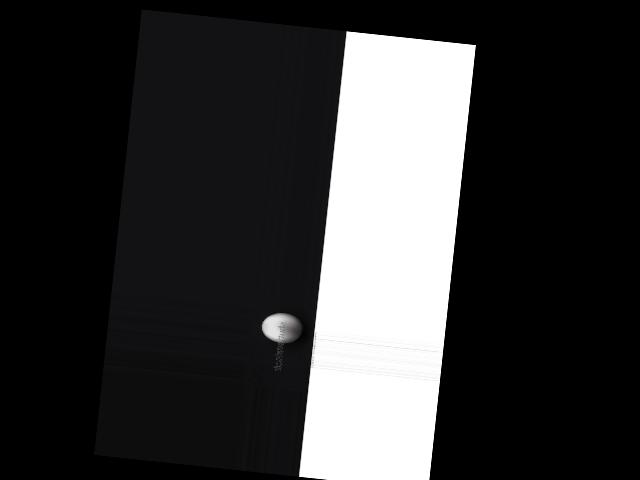egg: (259, 310, 304, 344)
